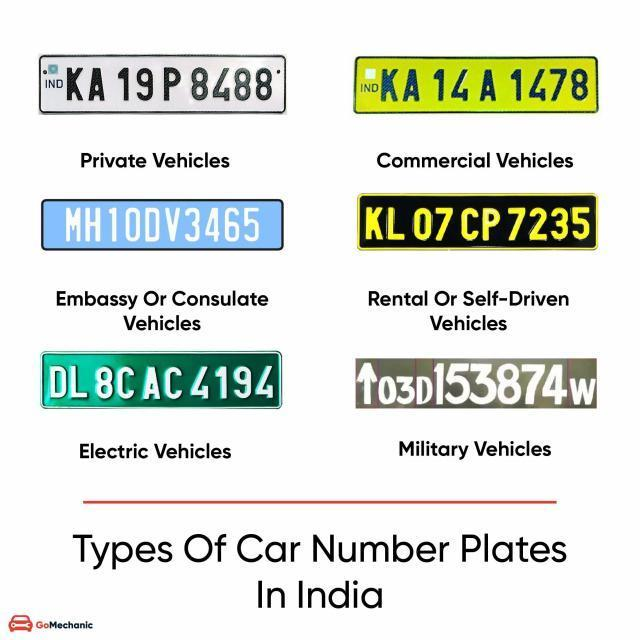License_Plate: (32, 60, 286, 116), (43, 351, 279, 409), (351, 60, 602, 114), (357, 196, 596, 251), (42, 199, 276, 249), (357, 360, 596, 408)
